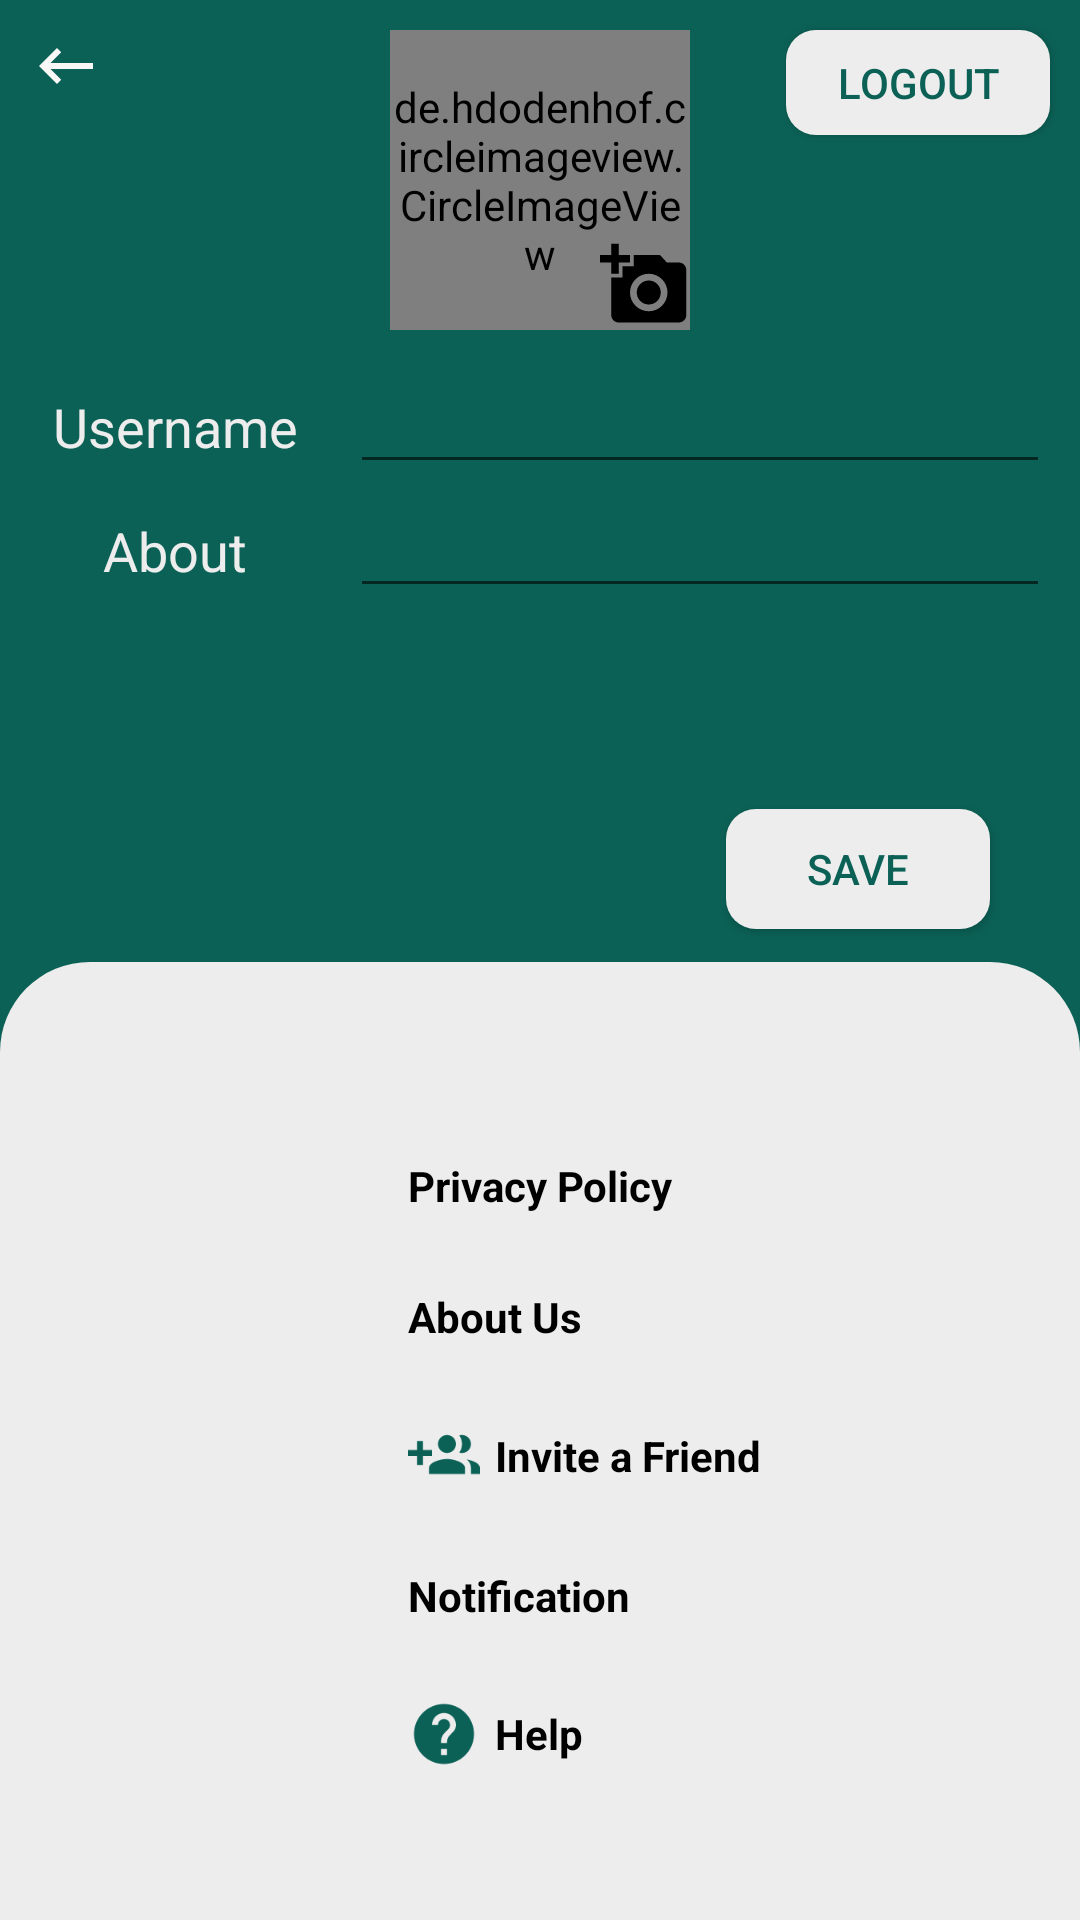

Named icons in this screenshot (1080w x 1920h) and their bounding boxes, (x1, y1, x2, y2):
add photo: (600, 243, 687, 323)
keyboard backspace: (39, 48, 93, 84)
